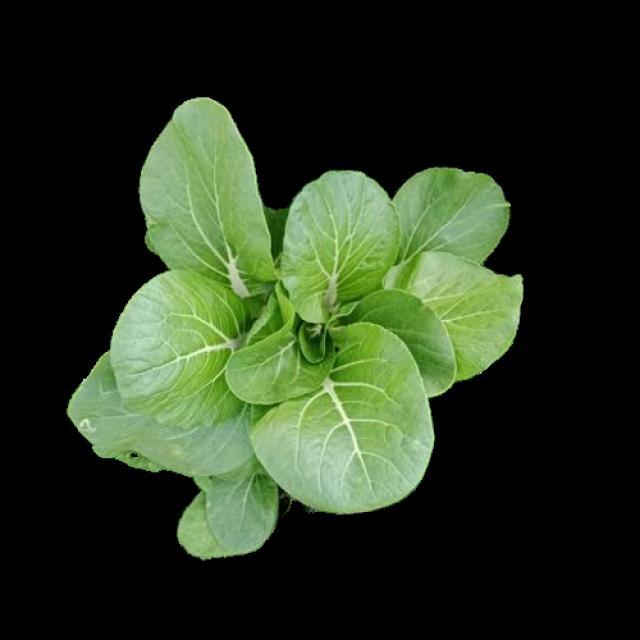mature: (70, 101, 521, 558)
unhealthy: (68, 370, 272, 489)
